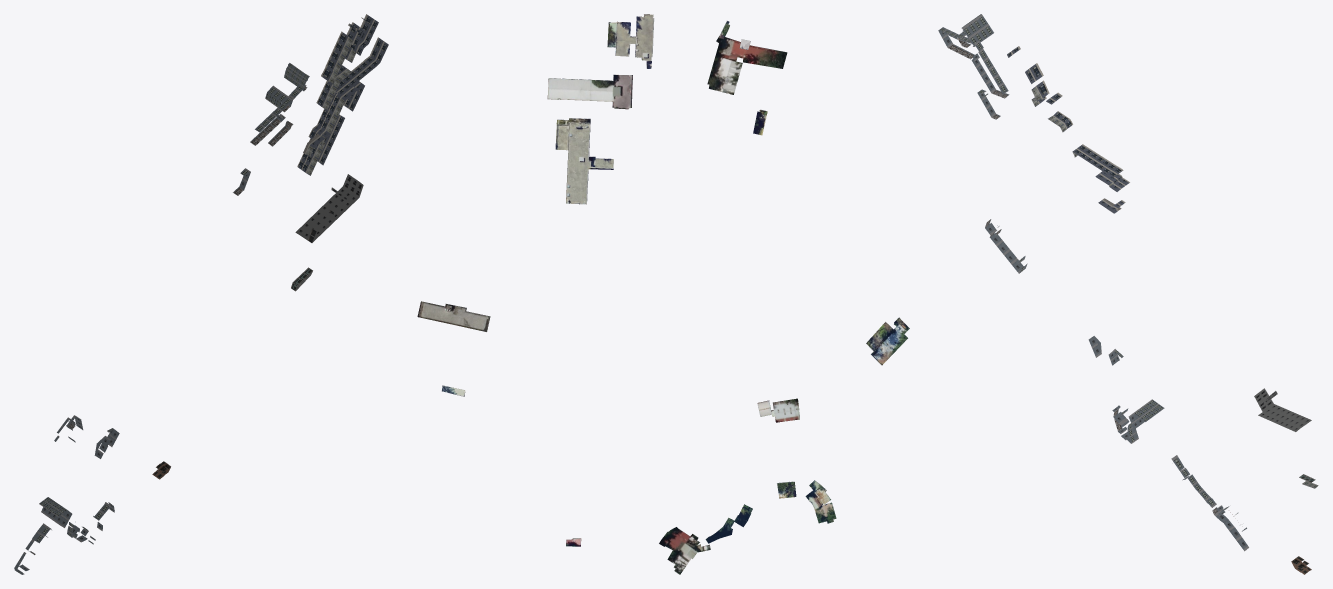
The model's file is tile_LOD8_r7_c5.glb.
The picture shows the model from 3 angles, left to right: view 1: azimuth 30°, elevation 25°; view 2: azimuth 150°, elevation 25°; view 3: azimuth 270°, elevation 25°; orthographic projection. The views are drawn at different scales.
Bounding box in the file's own units: 278 × 334 × 200.
Materials: 36 (36 with a texture image).
